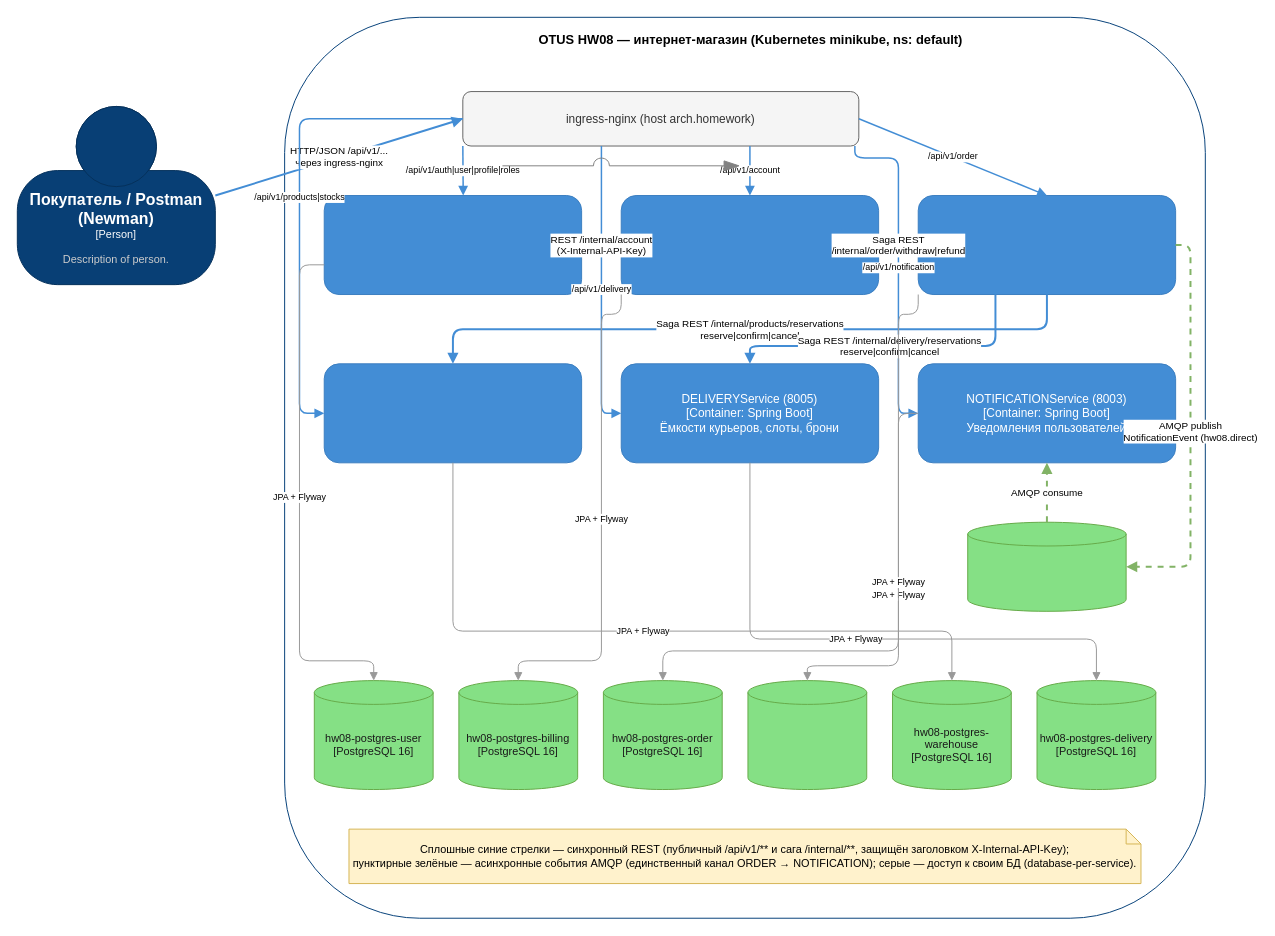
Some shapes in this 1275 by 936 pixel diagram are drawn without their labels. The shapes that lost their labels are listed below. From the top down, each one's centre as x and y in pixels, then its label:
[452,245]: USERService (8000) [Container: Spring Boot] Регистрация, профили, JWT
[749,245]: BILLINGService (8001) [Container: Spring Boot] Счета, депозиты, withdraw/refund
[1046,245]: ORDERService (8002) [Container: Spring Boot] Заказы + оркестратор саги
[452,413]: WAREHOUSEService (8004) [Container: Spring Boot] Товары, сток, резервы
[1046,566]: hw08-rabbitmq [RabbitMQ 4.1.3]
[807,735]: hw08-postgres-notification [PostgreSQL 16]
